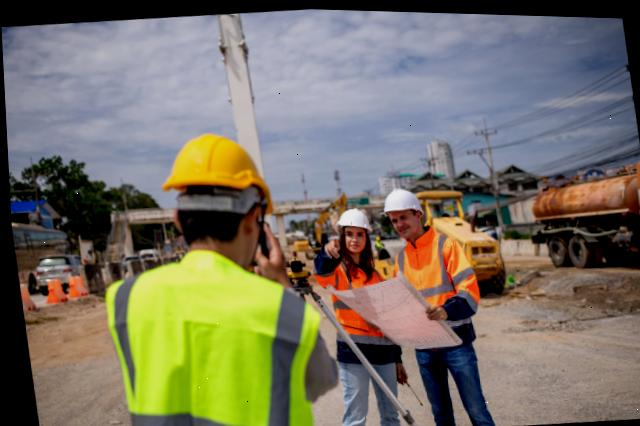helmet: (155, 128, 267, 196), (325, 199, 373, 233), (372, 183, 425, 210)
vest: (85, 252, 330, 426), (389, 228, 481, 330), (316, 249, 397, 347)
